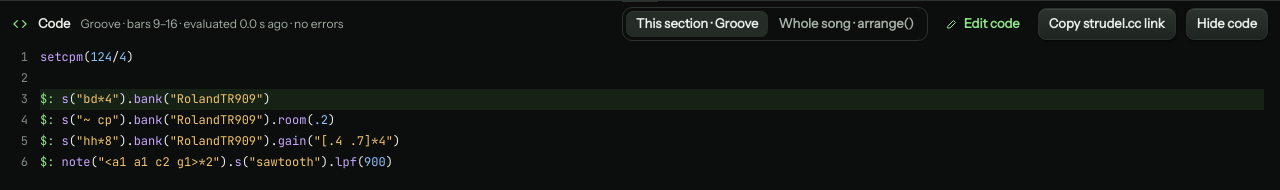
Test: CodeDrawer › should open the code menu from the focused code with Shift+F10
Click the radio button labelled "This section · Groove". click: (697, 24)
box: [626,11,768,37]
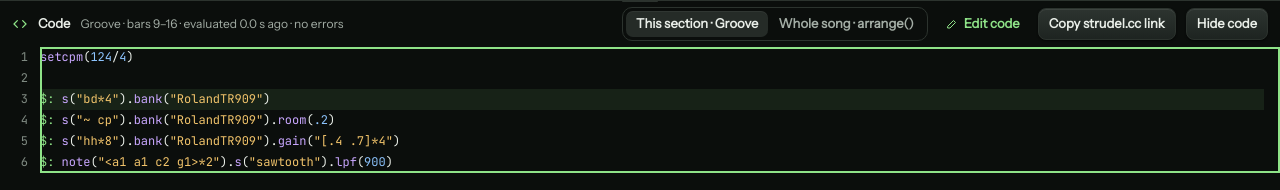
Type keys "{Shift>}{F10}{/Shift}"
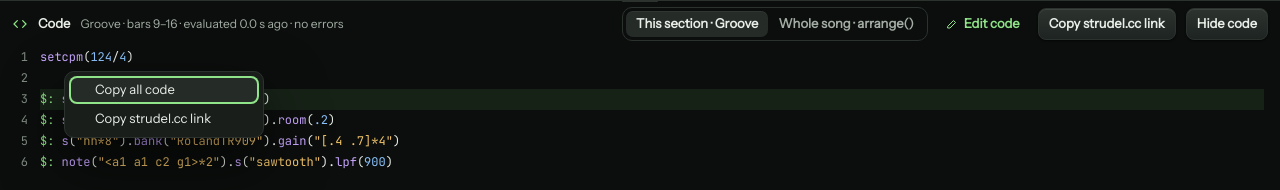
Expected: the menu named "Generated code" is shown, [64,71,264,138]
